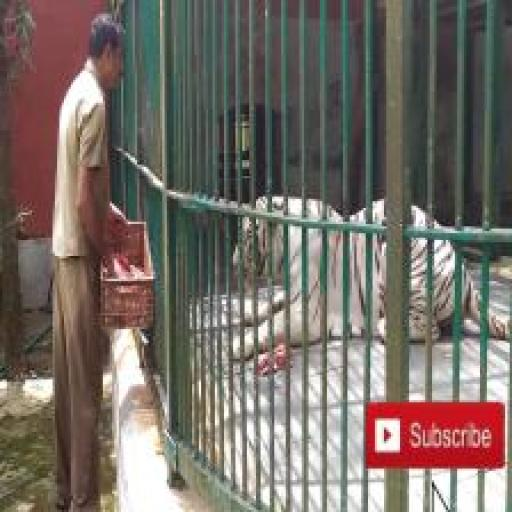Tiger: (231, 194, 512, 367)
